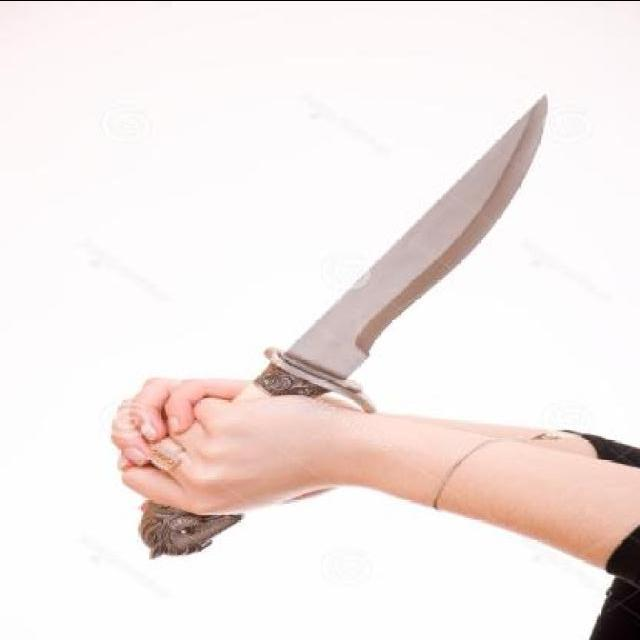Knife: (139, 95, 553, 557)
